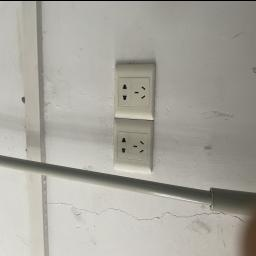outlet: (110, 59, 158, 116), (111, 116, 155, 172)
